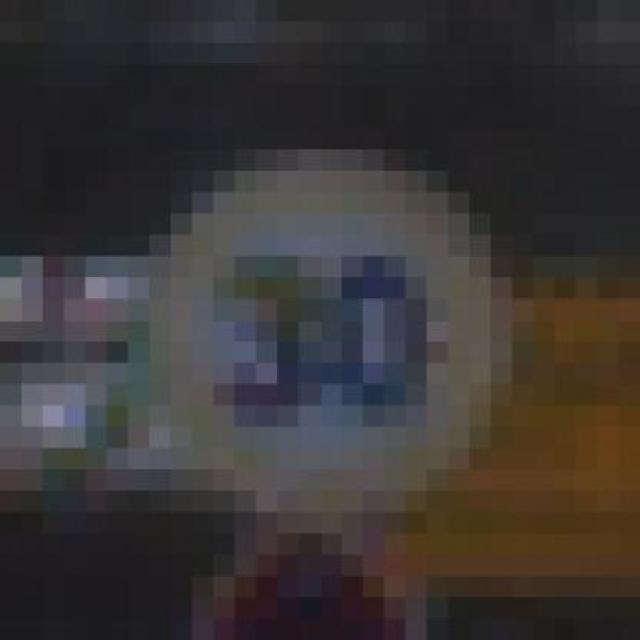Speed Limit 30 KMPh: (85, 128, 533, 555)
